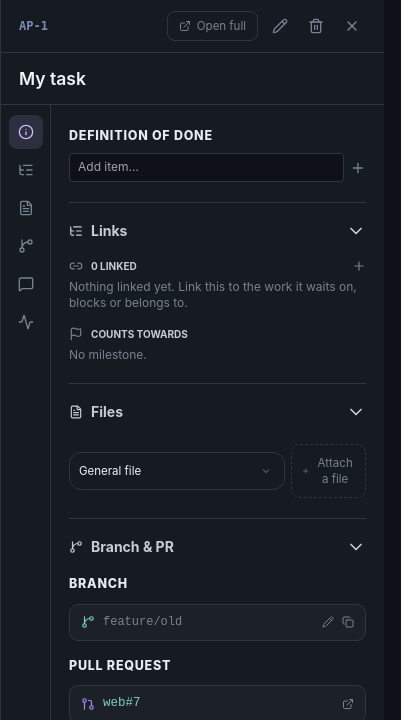
Test: TaskDetailPanel — layout & resizing › makes each side-panel section collapsible
(page scrolled)
Click the button with aria-label "Toggle Files section". click: (107, 412)
box: x1=69 y1=396 x2=366 y2=428
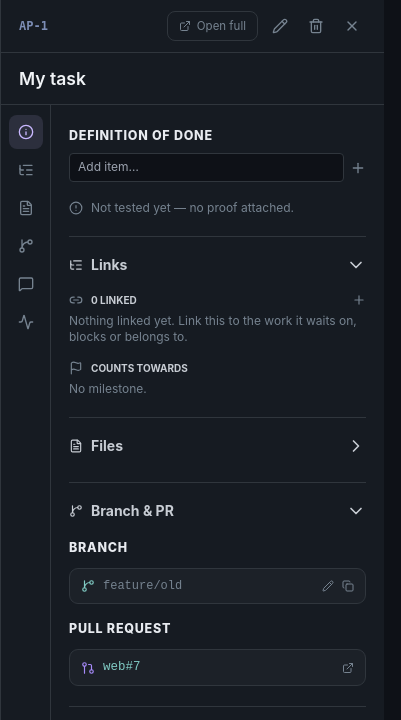
Result: the button with aria-label "Toggle Files section" is collapsed at x1=69 y1=430 x2=366 y2=462
Result: the button "Attach a file" is gone
